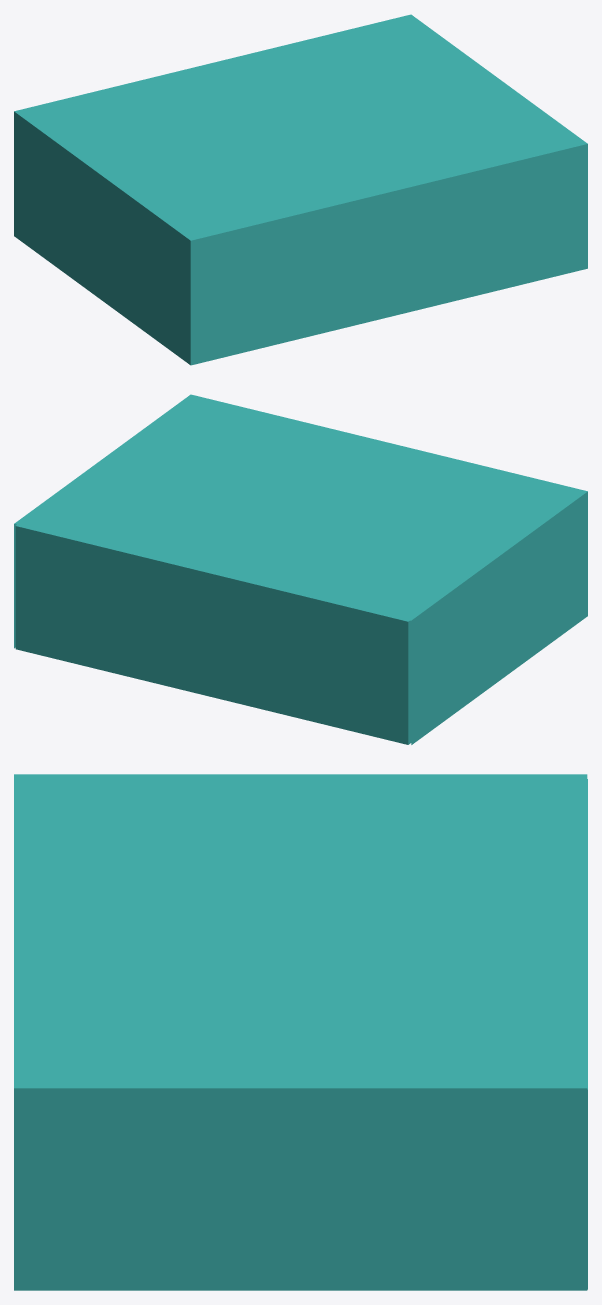
Rendered from Bakery_Box_B.FBX.
3 views of the same model, one above another, from view 1: azimuth 30°, elevation 25°; view 2: azimuth 150°, elevation 25°; view 3: azimuth 270°, elevation 25° (orthographic). The views are drawn at different scales.
Visible parts, largest first — view 1: Lid; view 2: Lid, Bakery_Box; view 3: Lid.
Part boxes in pixels (box(x1,y1,x2,y2)): Lid: box(14, 14, 587, 365); Lid: box(14, 394, 587, 744); Bakery_Box: box(15, 524, 411, 744); Lid: box(14, 774, 587, 1290).
Size of the model in its own units: 152 by 45.57 by 117.
